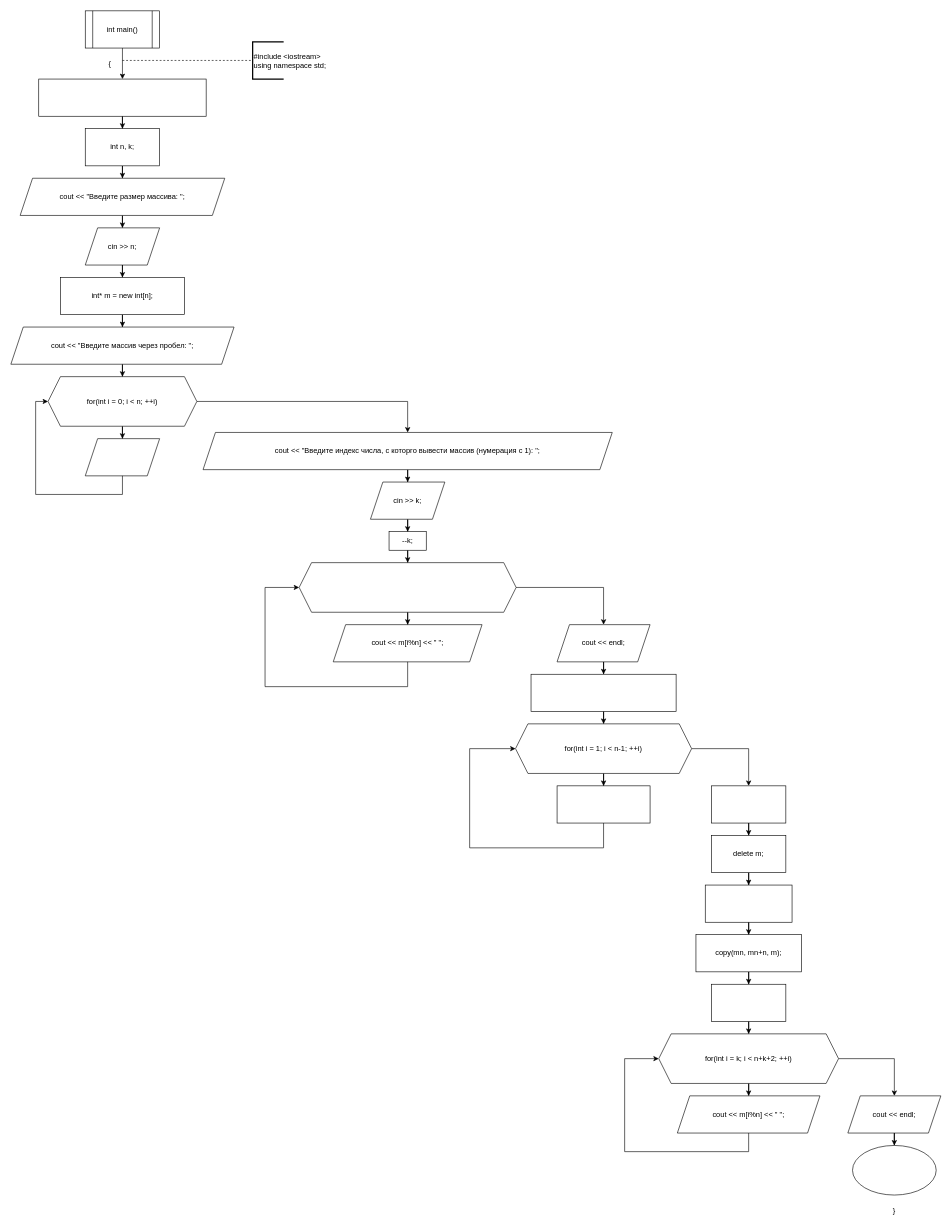
The diagram is 952 pixels wide and 1231 high, and some of its shapes have lost their labels. The shapes that lost their labels are listed below. From the top down, each one's centre as x and y in pixels, then its label:
point 122,97: setlocale(LC_ALL, ".65001");
point 122,457: cin >> m[i];
point 407,587: for(int i = n+k+n; i > k-2+n; --i)
point 603,692: int* mn = new int[n-2];
point 603,804: mn[i-1] = m[i];
point 748,804: n-=2;
point 748,903: m = new int[n];
point 748,1002: delete mn;
point 894,1170: return 0;
